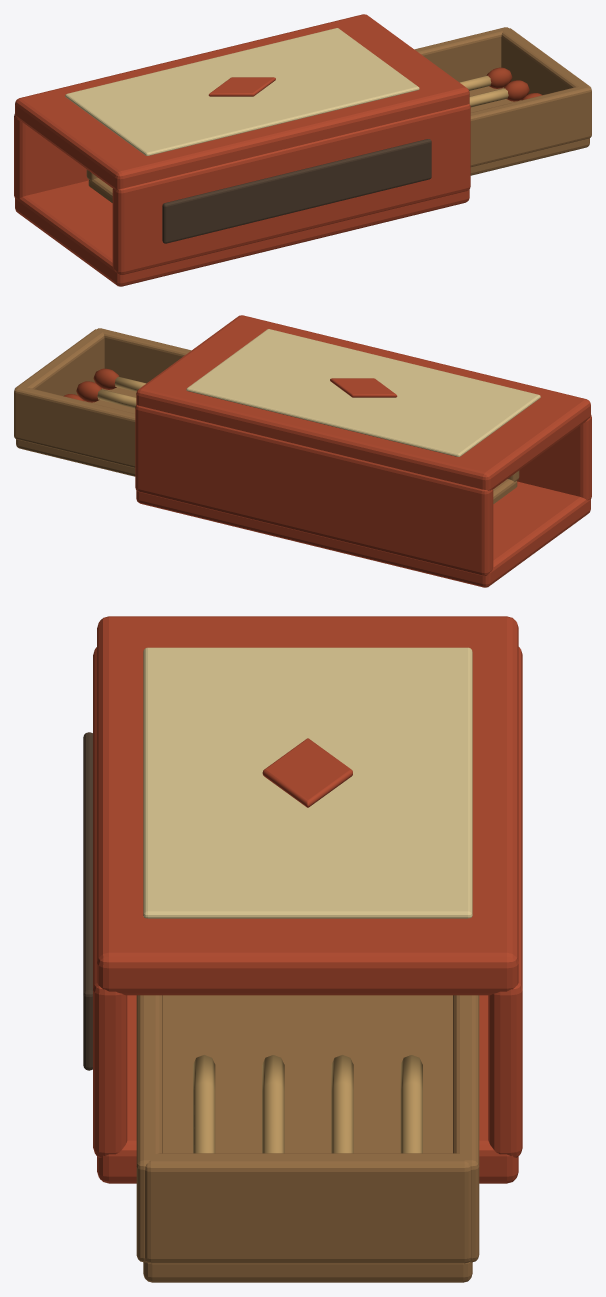
Rendered from matchbox.glb.
3 renders of one model, top to bottom at view 1: azimuth 30°, elevation 25°; view 2: azimuth 150°, elevation 25°; view 3: azimuth 270°, elevation 25°, orthographic. The views are drawn at different scales.
Visible parts, largest first — view 1: PropGeometryGeometry; view 2: PropGeometryGeometry; view 3: PropGeometryGeometry.
Boxes of the visible parts, box(x1,y1,x2,y2) form: PropGeometryGeometry: box(14, 14, 591, 286); PropGeometryGeometry: box(14, 315, 591, 587); PropGeometryGeometry: box(83, 616, 522, 1282).
Bounding box in the file's own units: 1.7 × 0.411 × 0.667.
